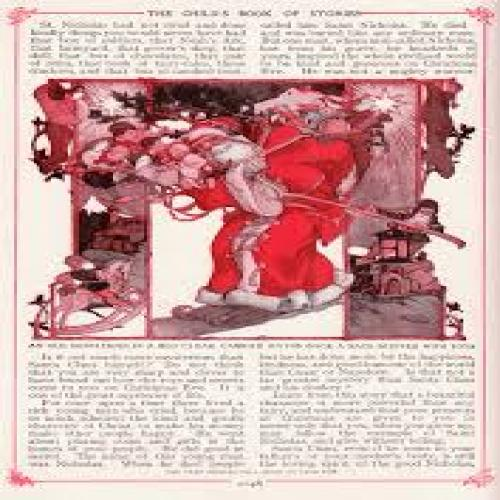Santa: (188, 115, 360, 308)
